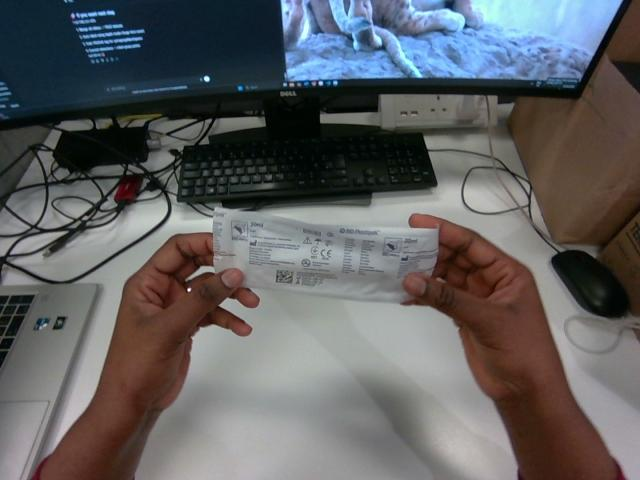syringe: (213, 207, 438, 302)
